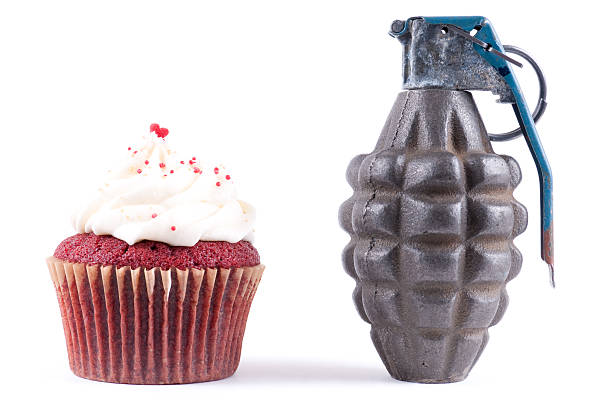e1: (340, 12, 561, 385)
